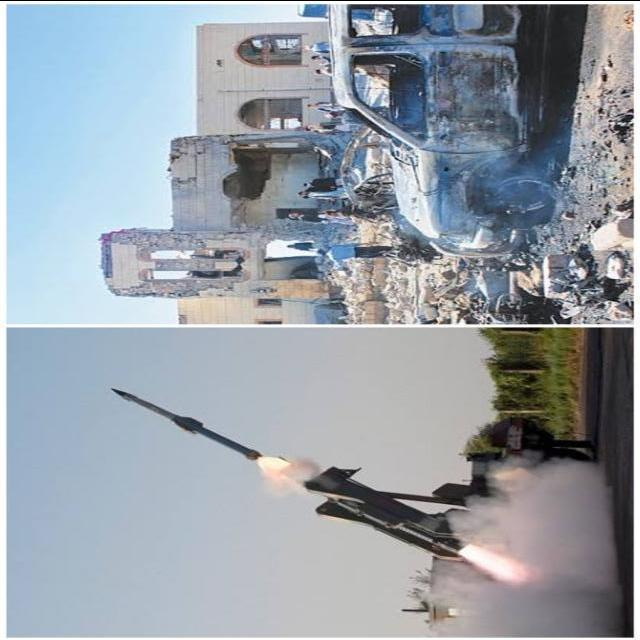Missile: (103, 380, 265, 463)
